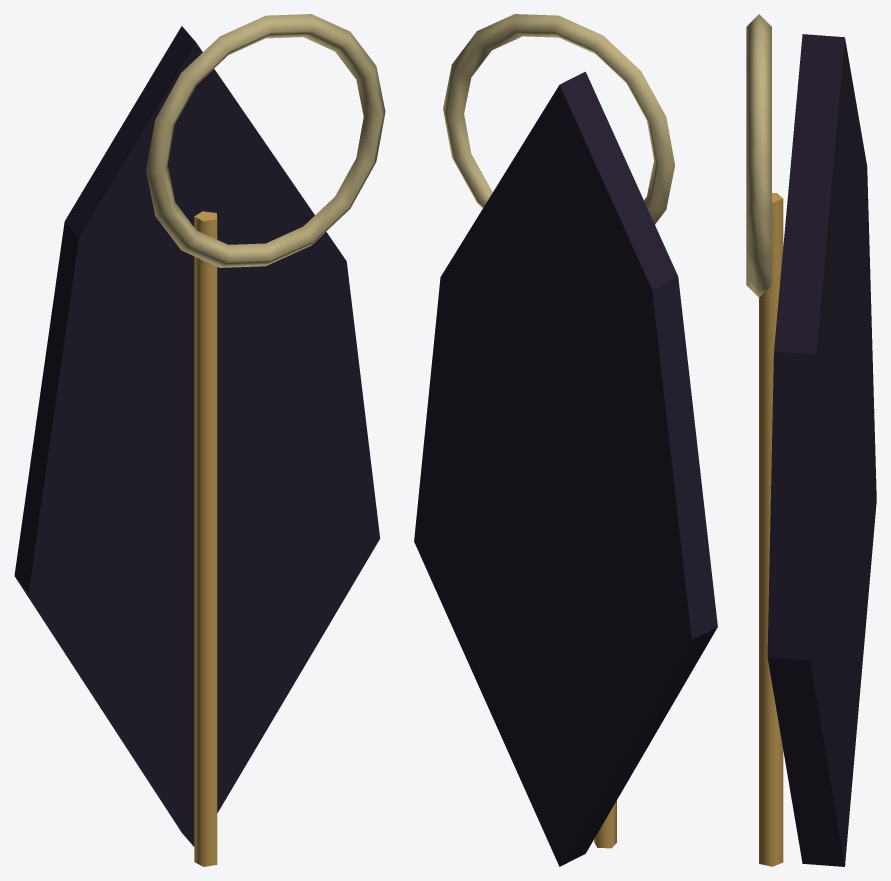
Rendered from fallen_feather.fbx.
3 views of the same model, side by side, from view 1: azimuth 30°, elevation 25°; view 2: azimuth 150°, elevation 25°; view 3: azimuth 270°, elevation 25° (orthographic). The views are drawn at different scales.
Parts seen in each view (by area): view 1: fallen_feather; view 2: fallen_feather; view 3: fallen_feather.
Part boxes in pixels (bbox=[...]): fallen_feather: bbox=[14, 14, 385, 866]; fallen_feather: bbox=[414, 14, 717, 866]; fallen_feather: bbox=[746, 14, 876, 866].
Bounding box in the file's own units: 0.3585 × 0.882 × 0.1212.
